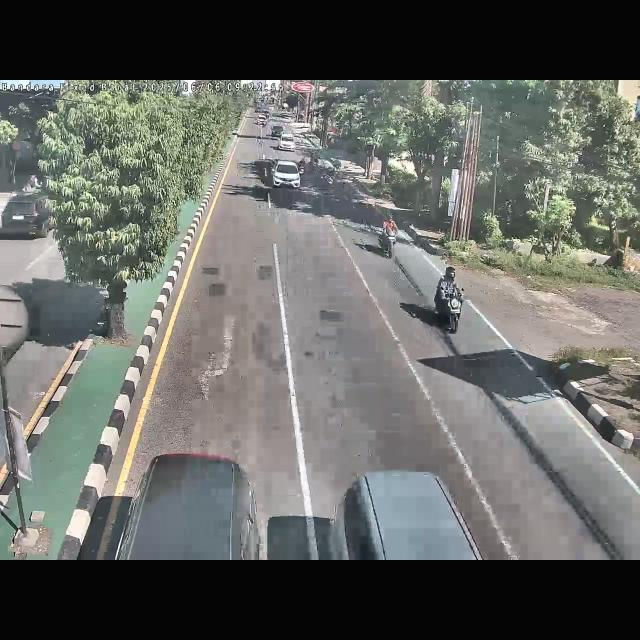Mobil: (120, 450, 266, 560), (330, 470, 484, 560), (272, 159, 304, 191), (280, 132, 296, 156)
Motor: (429, 259, 469, 337), (377, 212, 401, 260)
